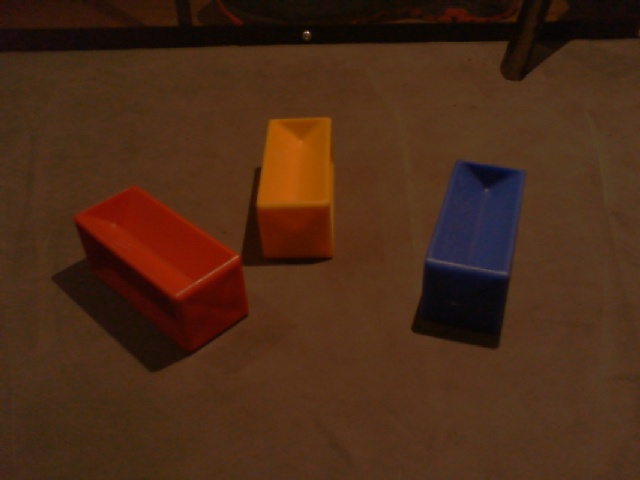BlueSample: (420, 158, 528, 323)
RedSample: (73, 184, 248, 350)
YellowSample: (251, 116, 342, 266)
